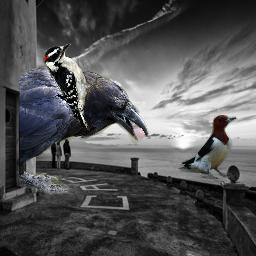Crow: (19, 66, 149, 194)
Woodpecker: (43, 43, 107, 131), (178, 115, 238, 179)
